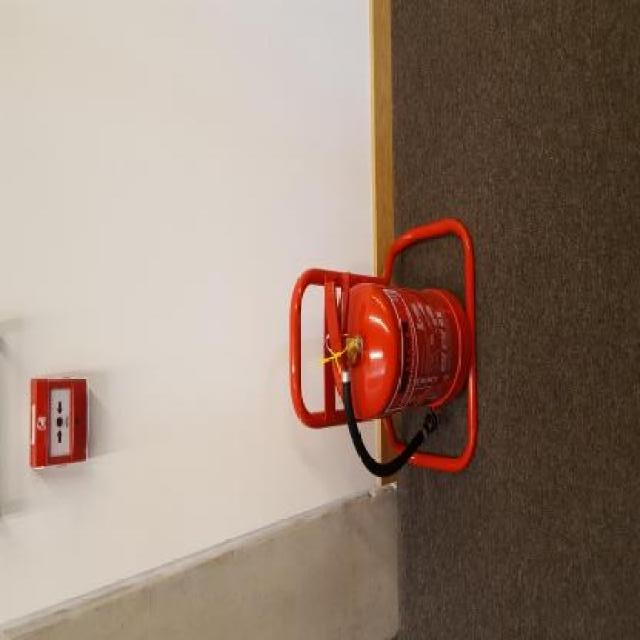fire extinguisher: (324, 272, 470, 480)
